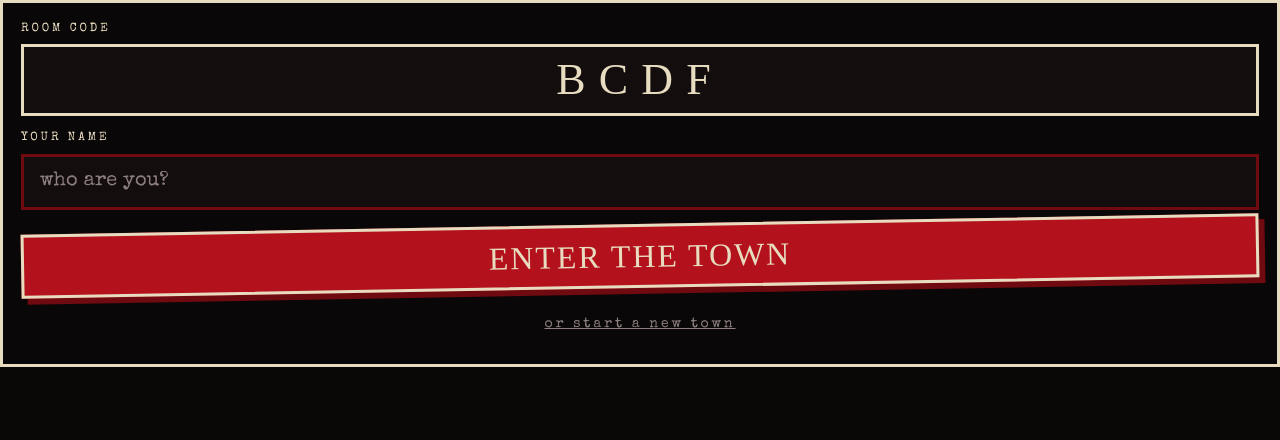
Test case: JoinForm › shows the server message when joining fails and stays on the page
Type "Ada" into the field labelled "Your name".
click(640, 182); type("Ada")  # box [21,154,1259,210]
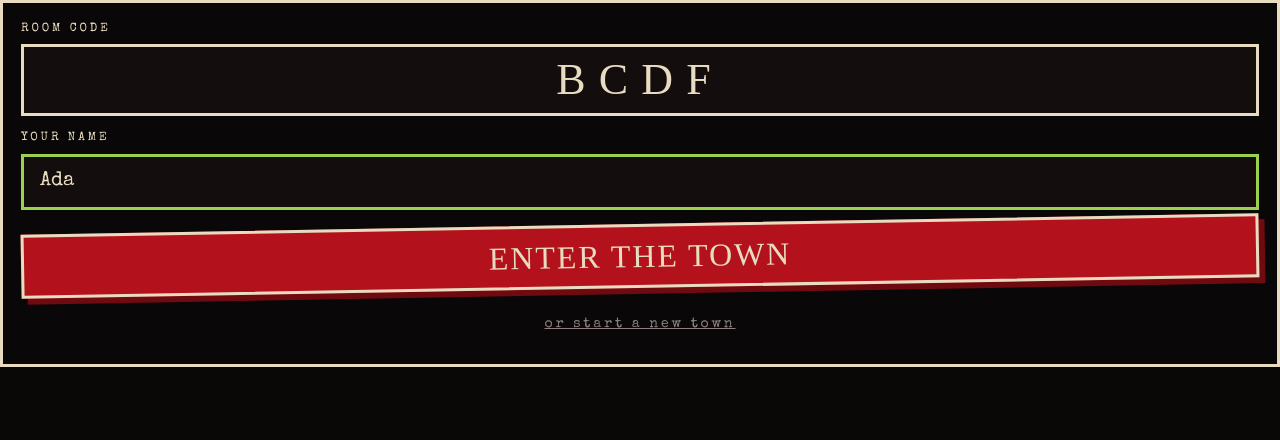
Click the button "ENTER THE TOWN".
click(640, 256)  # box [20,213,1259,299]
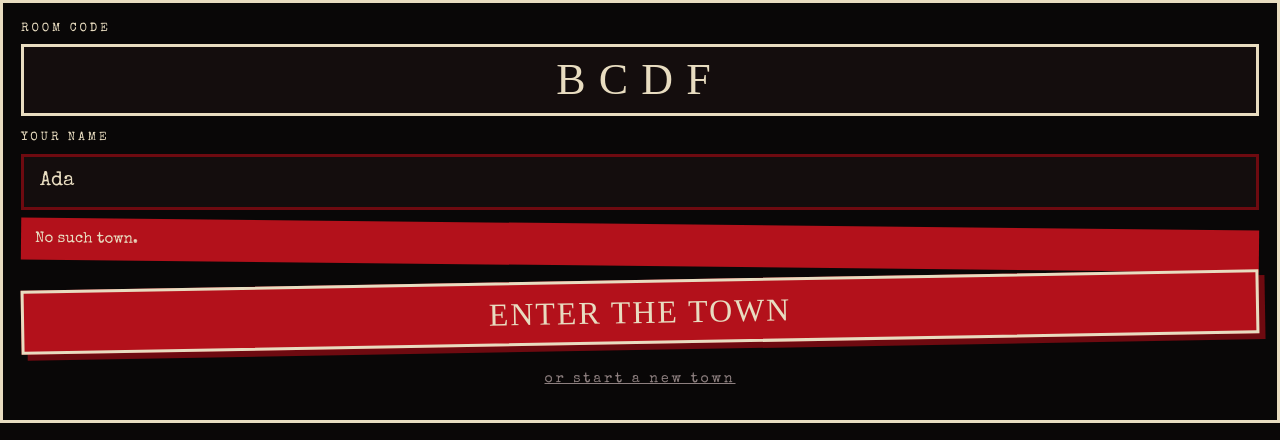
expect the button "ENTER THE TOWN" is enabled: met, box [20,269,1259,354]
expect the message reads "No such town.": met, box [35,230,138,246]
